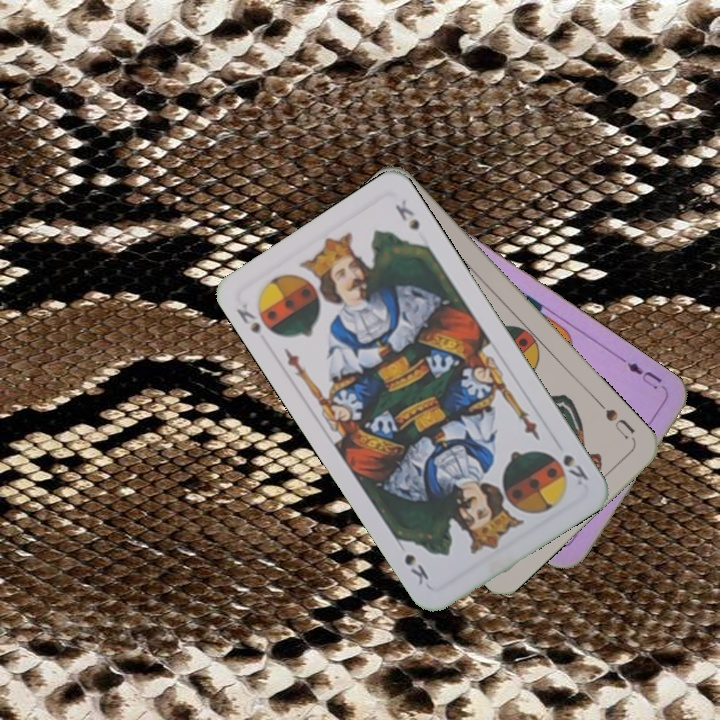EU: (623, 358, 665, 392)
SK: (558, 450, 591, 488), (232, 299, 263, 336)
SU: (593, 396, 638, 444)
